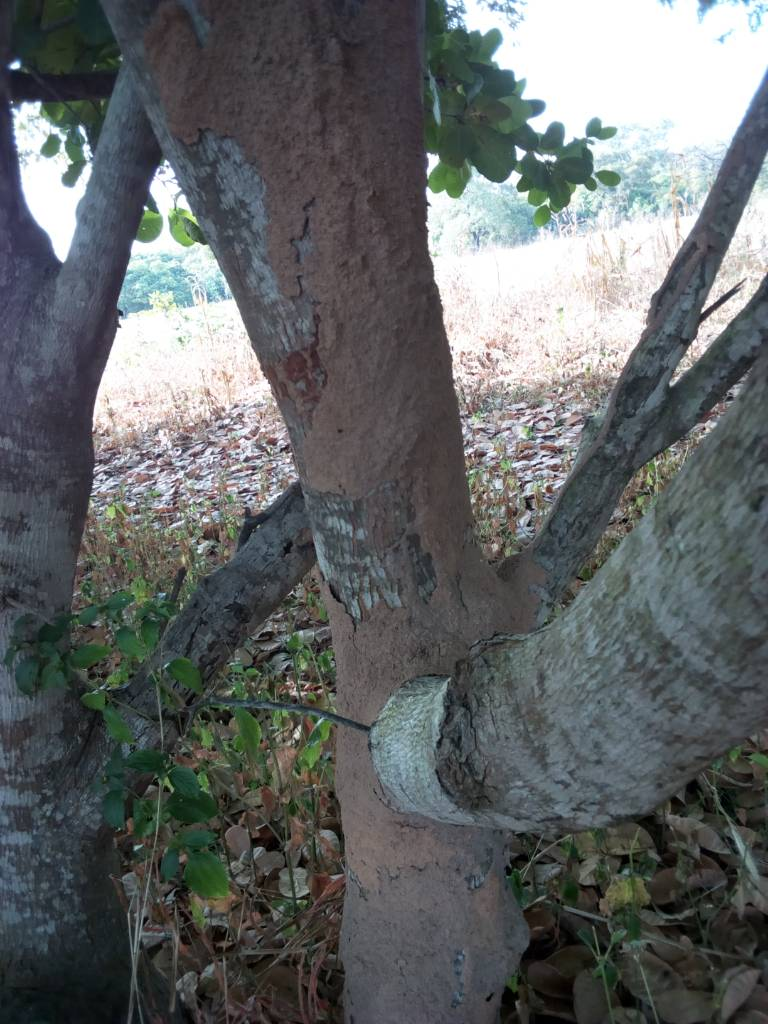Termites: (296, 11, 465, 541), (346, 807, 500, 1024), (157, 24, 290, 247), (329, 599, 532, 658)
